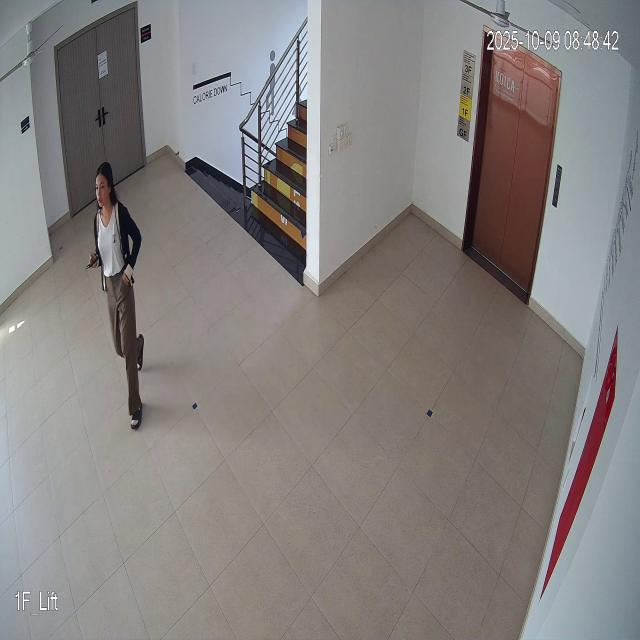face: (92, 153, 120, 221)
